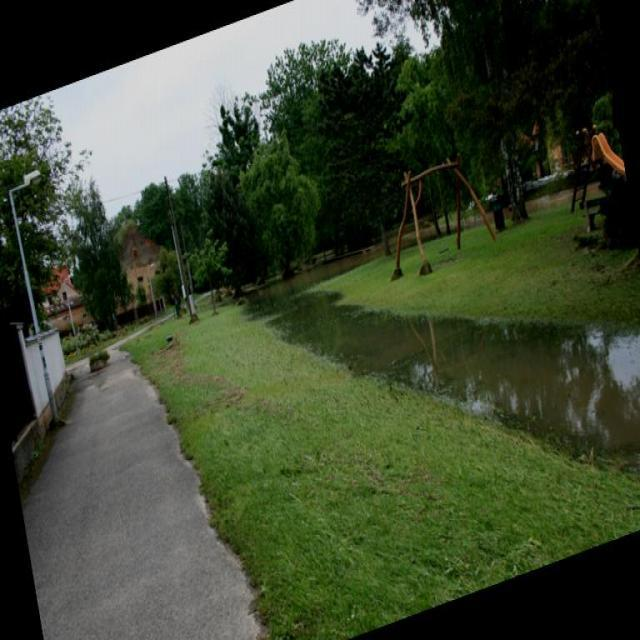flood: (248, 145, 639, 611)
